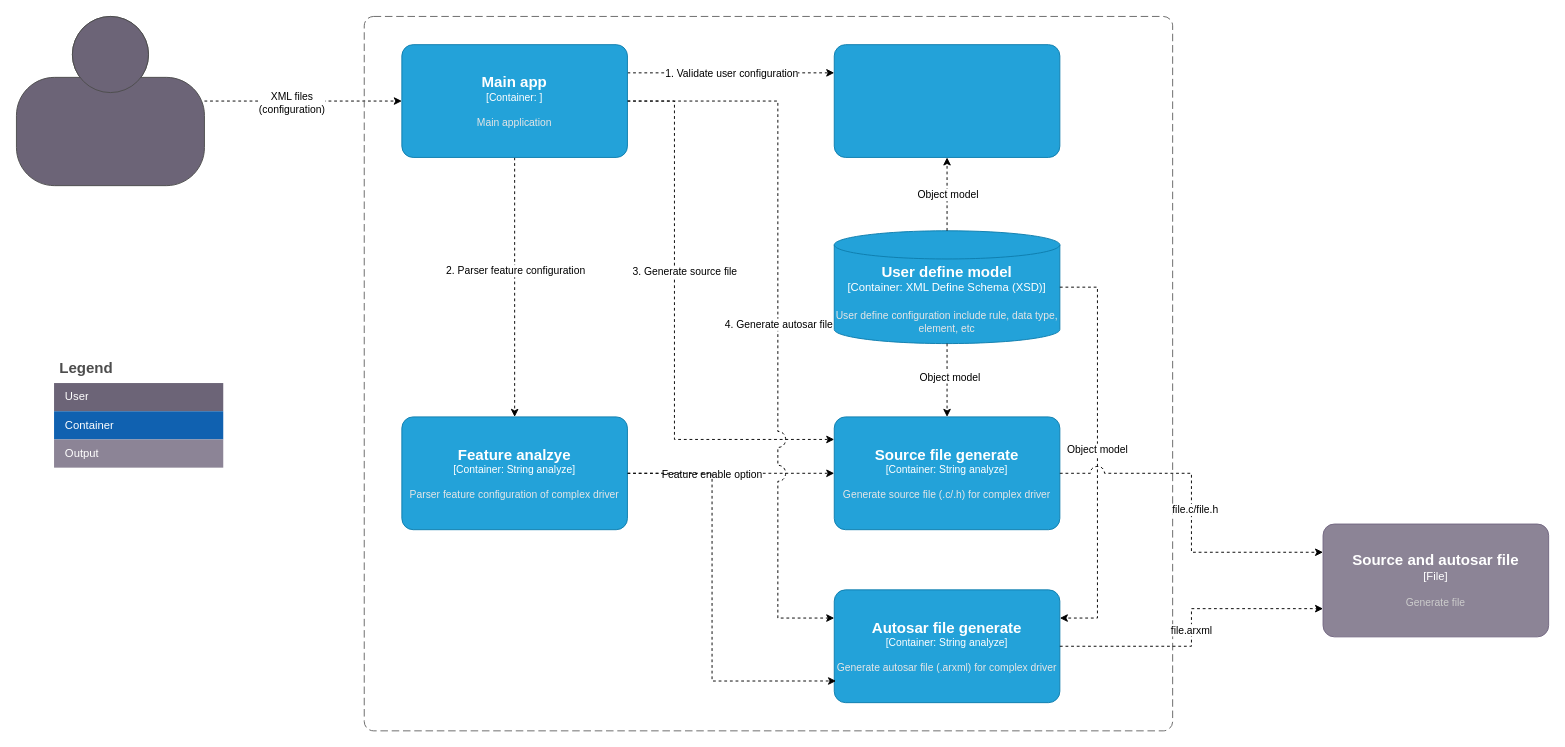
Image size: 1565x747. Some labels were removed from this diagram. The box of each missing label's shape, as (x1, y1, x2, y2) in pixels:
Complex driver configuration [Desktop application]: (363, 16, 1173, 731)
User [Object] User: (16, 16, 204, 186)
XML validate [Container: XMLDocument] Vadilate is configuration (xml) is correct: (833, 44, 1060, 157)
